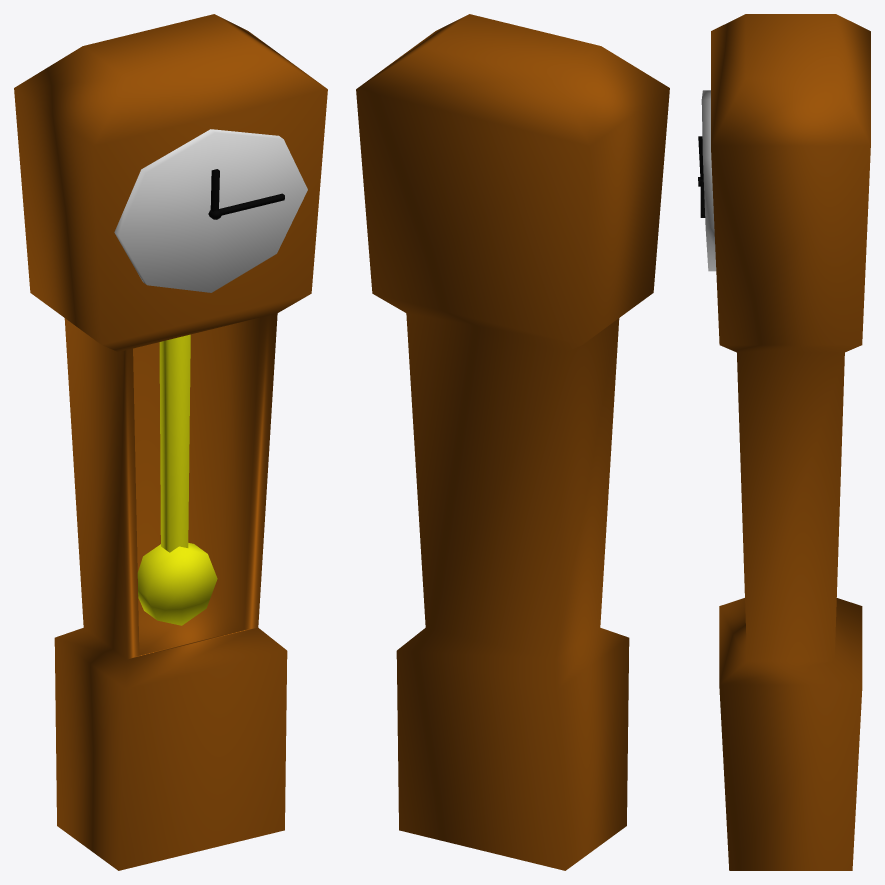
File: reloC.fbx
The picture shows the model from 3 angles, left to right: view 1: azimuth 30°, elevation 25°; view 2: azimuth 150°, elevation 25°; view 3: azimuth 270°, elevation 25°; orthographic projection.
Parts seen in each view (by area): view 1: relojMadera_geo, reloj_geo, reloj_pendulo01_geo, reloj_pendulo2_geo; view 2: relojMadera_geo; view 3: relojMadera_geo, reloj_geo.
Part boxes in pixels (x1=…): relojMadera_geo: x1=14, y1=14, x2=327, y2=870; reloj_geo: x1=114, y1=129, x2=307, y2=292; reloj_pendulo01_geo: x1=159, y1=334, x2=190, y2=552; reloj_pendulo2_geo: x1=137, y1=543, x2=217, y2=625; relojMadera_geo: x1=356, y1=14, x2=669, y2=870; relojMadera_geo: x1=711, y1=14, x2=870, y2=870; reloj_geo: x1=701, y1=90, x2=716, y2=271.
Size of the model in its own units: 65.54 by 209 by 41.77.
